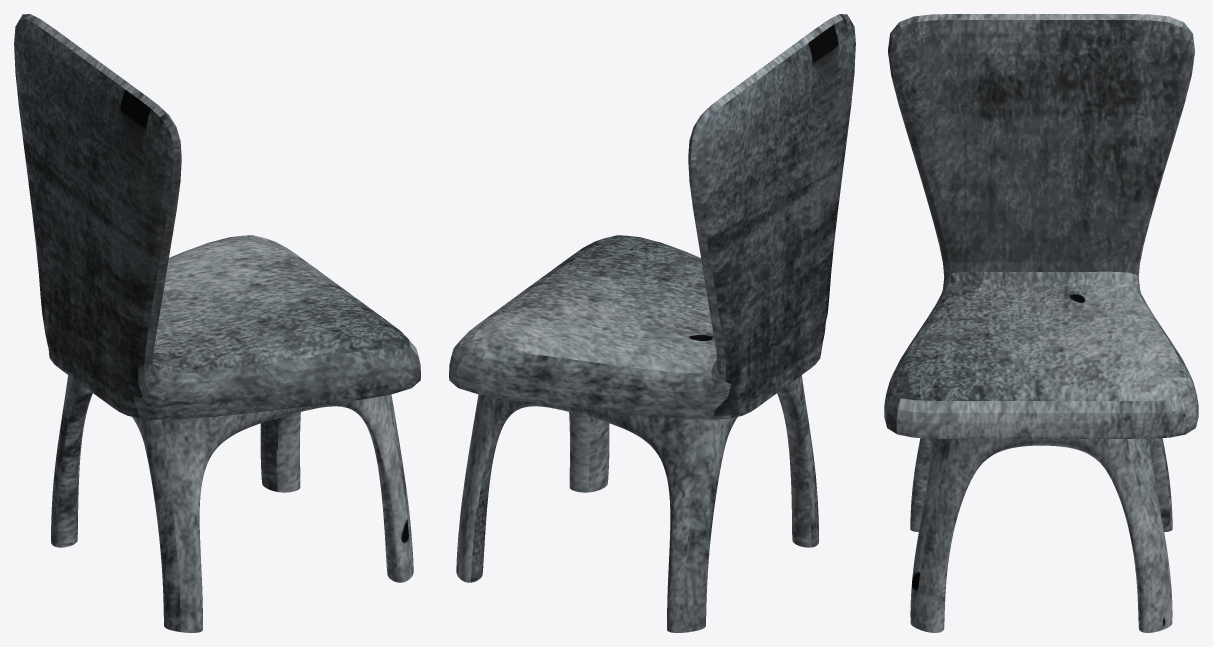
Rendered from minimalistic_modern_office_4.obj.
3 views of the same model, side by side, from view 1: azimuth 30°, elevation 25°; view 2: azimuth 150°, elevation 25°; view 3: azimuth 270°, elevation 25° (orthographic). The views are drawn at different scales.
Size of the model in its own units: 0.6394 by 1.2 by 0.6818.
